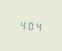four: (18, 18, 25, 30), (35, 20, 42, 31)
zero: (27, 19, 34, 31)
